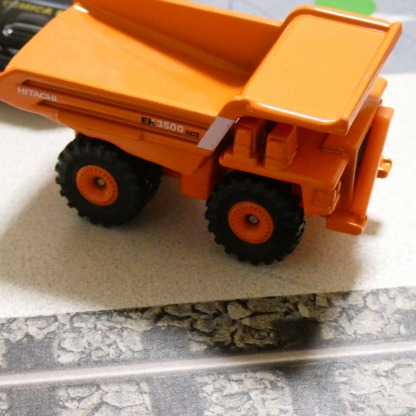car: (18, 0, 396, 266)
